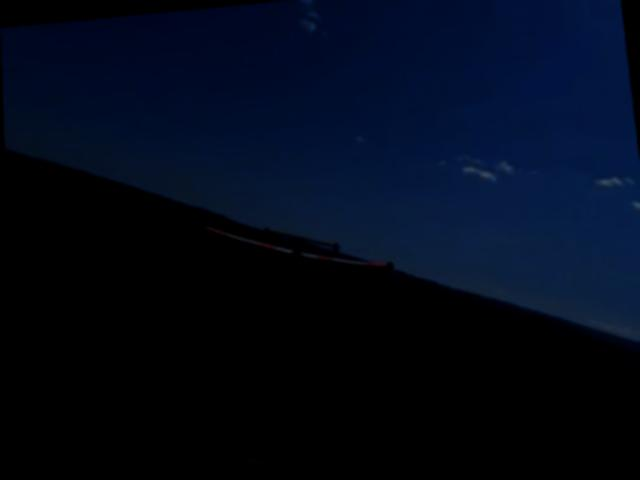uav: (198, 195, 393, 296)
